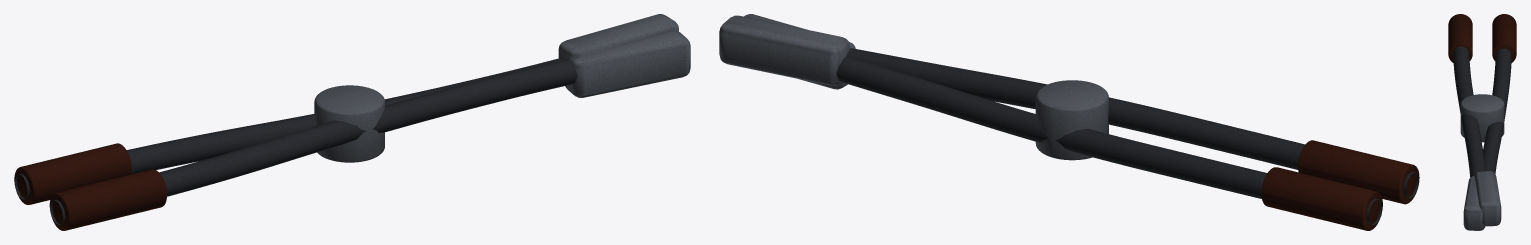
File: tongs.glb
3 renders of one model, left to right at view 1: azimuth 30°, elevation 25°; view 2: azimuth 150°, elevation 25°; view 3: azimuth 270°, elevation 25°, orthographic. The views are drawn at different scales.
Parts seen in each view (by area): view 1: tongs; view 2: tongs; view 3: tongs.
Boxes of the visible parts, bbox=[...] form: tongs: bbox=[14, 14, 690, 230]; tongs: bbox=[719, 14, 1419, 230]; tongs: bbox=[1448, 14, 1516, 230].
Bounding box in the file's own units: 2.72 × 0.2 × 0.404.
Materials: 3 (3 with a texture image).
